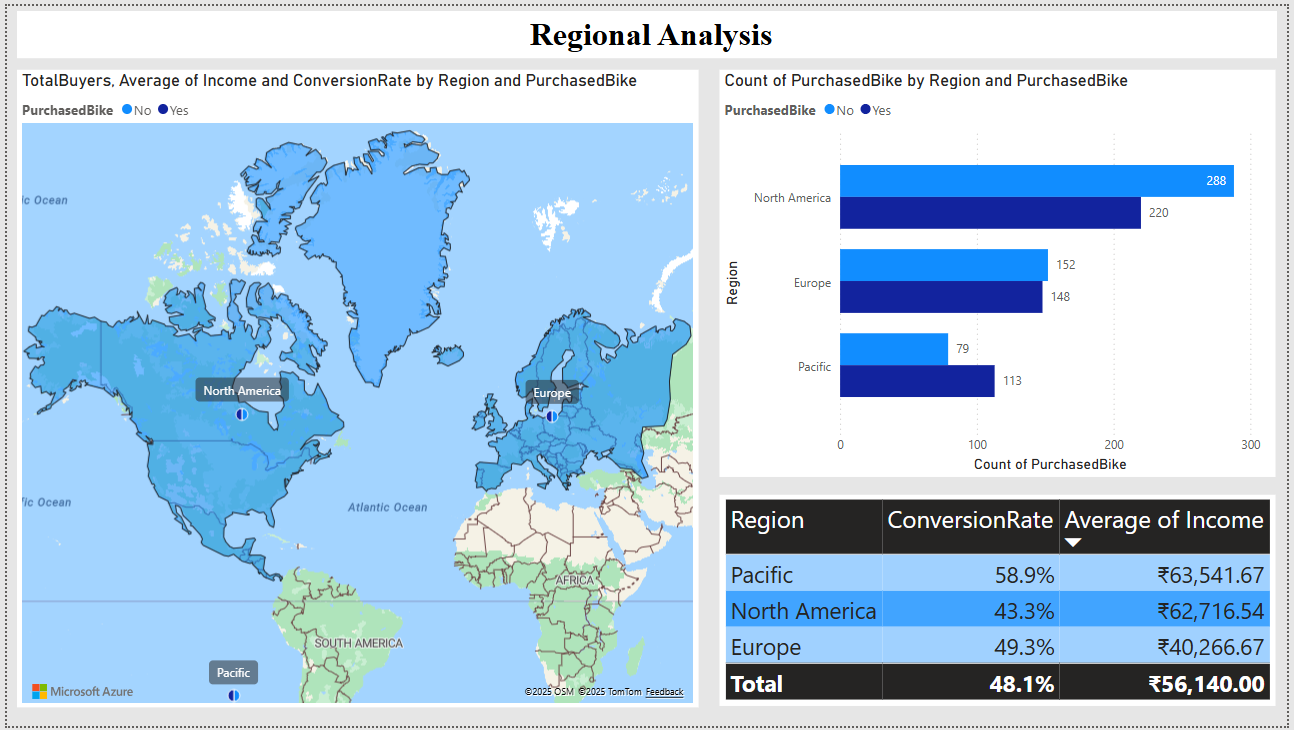

The page's visual inventory and layout, read from the dashboard file:
{"tool":"powerbi","page":{"name":"Regional Analysis","canvas":[1280,720],"ordinal":2},"visuals":[{"type":"textbox","box":[10,5,1260,47.5],"z":10},{"type":"azureMap","fields":{"Category":["bike_buyers.Region"],"Series":["bike_buyers.PurchasedBike"]},"box":[10,63.8,681.2,637.5],"z":11},{"type":"tableEx","fields":{"Values":["bike_buyers.Region","bike_buyers.ConversionRate","Avg(bike_buyers.Income)"]},"box":[712.9,489.1,556.4,211.6],"z":12},{"type":"clusteredBarChart","fields":{"Category":["bike_buyers.Region"],"Y":["CountNonNull(bike_buyers.PurchasedBike)"],"Series":["bike_buyers.PurchasedBike"]},"box":[712.9,63.6,556.4,407.2],"z":14}]}

Visuals, with their boxes in screenshot pixels (x1, y1, x2, y2), scaled from the page's 1280x720 canvas onto the 1294x730 screenshot:
textbox: (10, 5, 1284, 53)
azureMap - bike_buyers.Region x bike_buyers.PurchasedBike: (10, 65, 699, 711)
tableEx - bike_buyers.Region x bike_buyers.ConversionRate: (721, 496, 1283, 710)
clusteredBarChart - bike_buyers.Region x CountNonNull(bike_buyers.PurchasedBike): (721, 64, 1283, 477)
